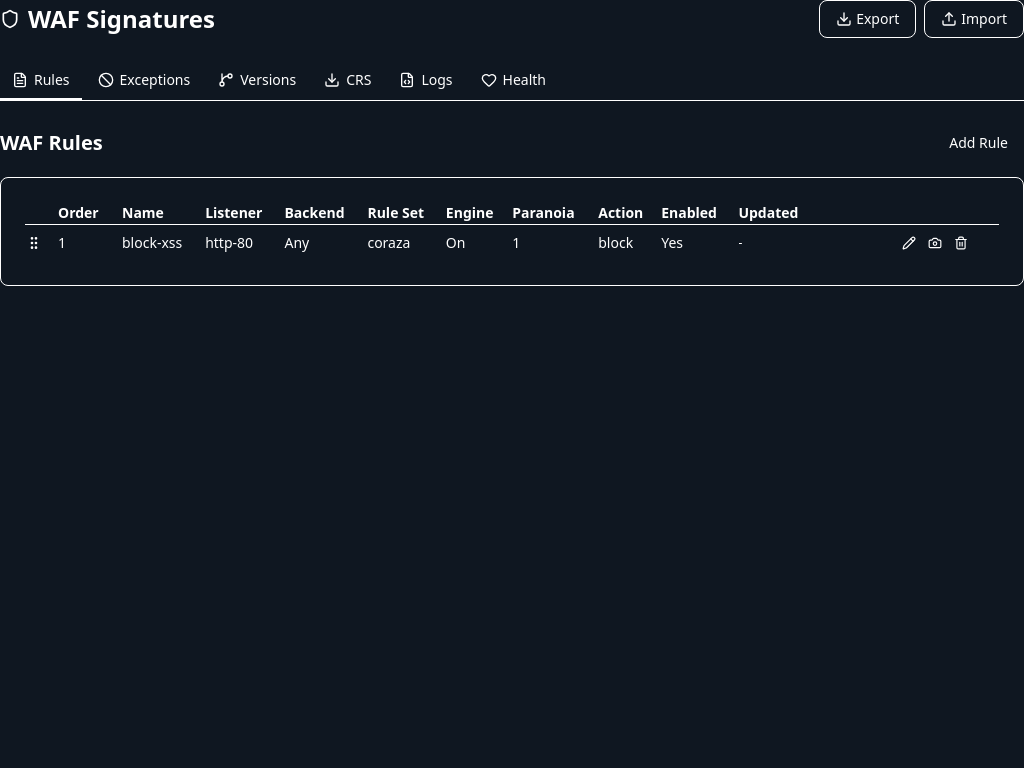
Test: Waf page › exception modal shows exclusion section for allow action
Expected: the heading "WAF Signatures" is shown, left=0, top=3, right=215, bottom=35
Click the button "Exceptions" at (144, 81), box left=86, top=62, right=202, bottom=100
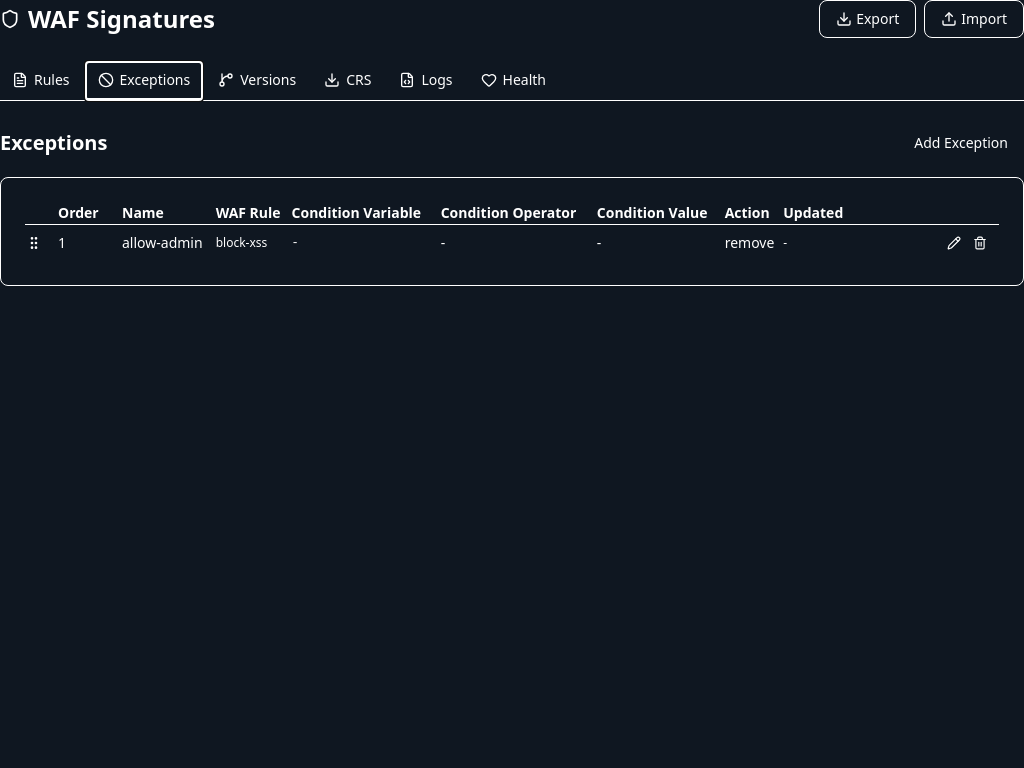
Click the button "Add Exception" at (961, 143), box left=898, top=125, right=1023, bottom=161
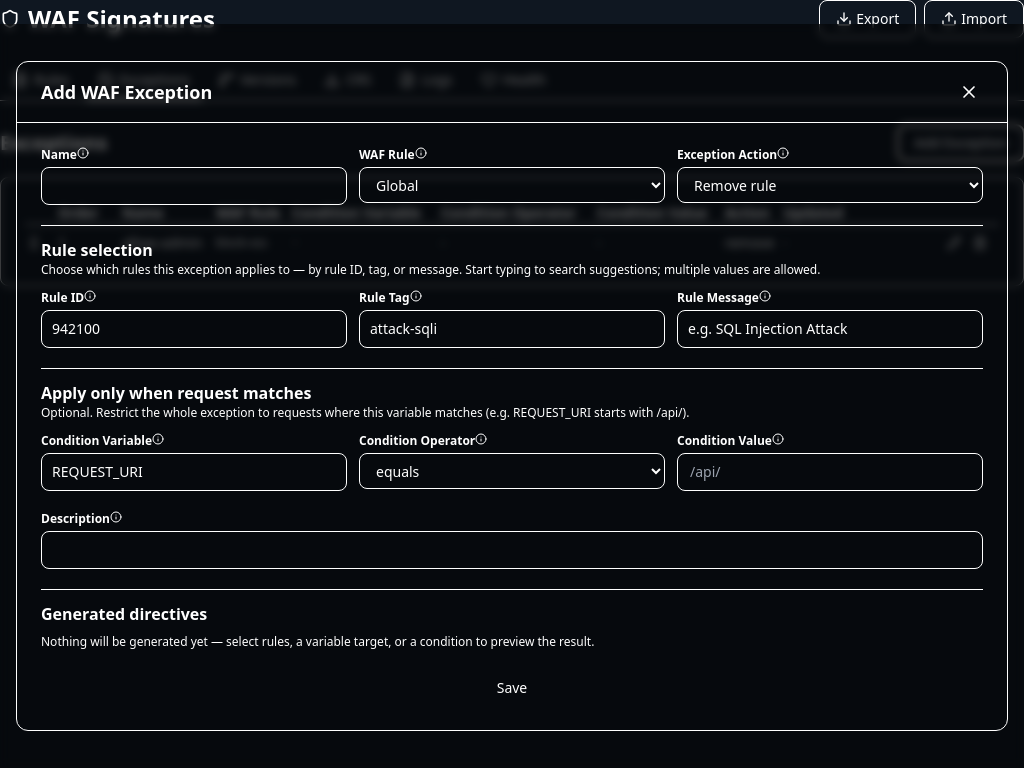
Expected: the heading "Add WAF Exception" is shown, left=41, top=78, right=212, bottom=106
Select "Allow variable" in the dropdown below "Exception Action" at (830, 185), box left=677, top=167, right=983, bottom=203
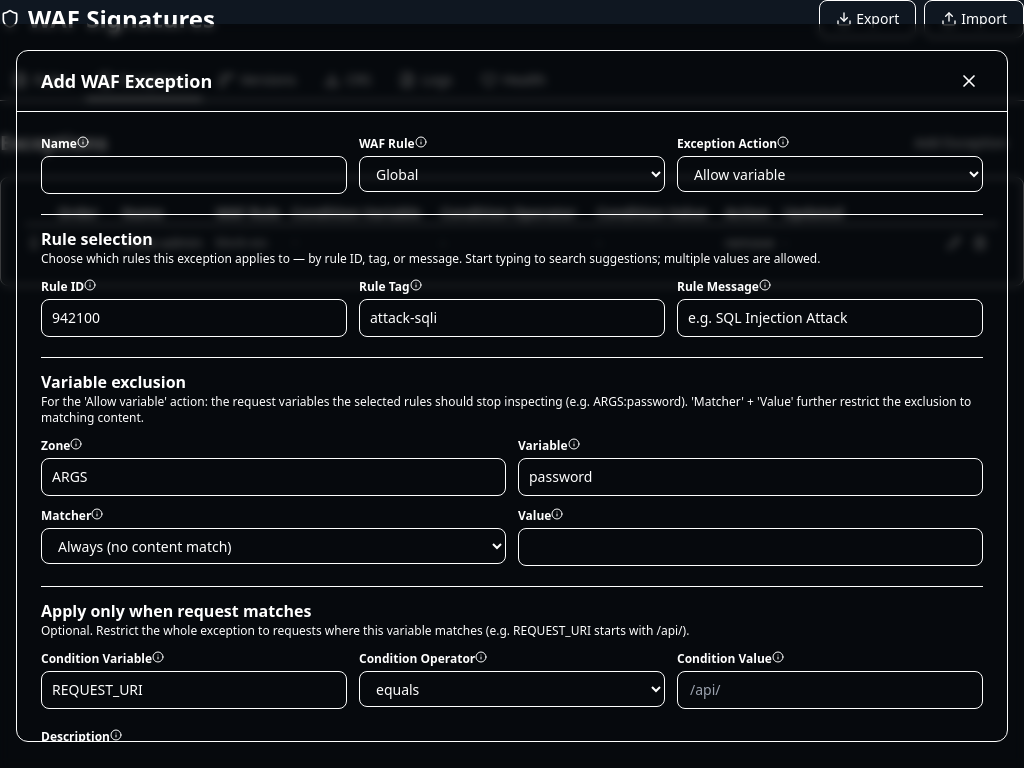
Expected: the heading "Variable exclusion" is shown, left=41, top=371, right=186, bottom=393
